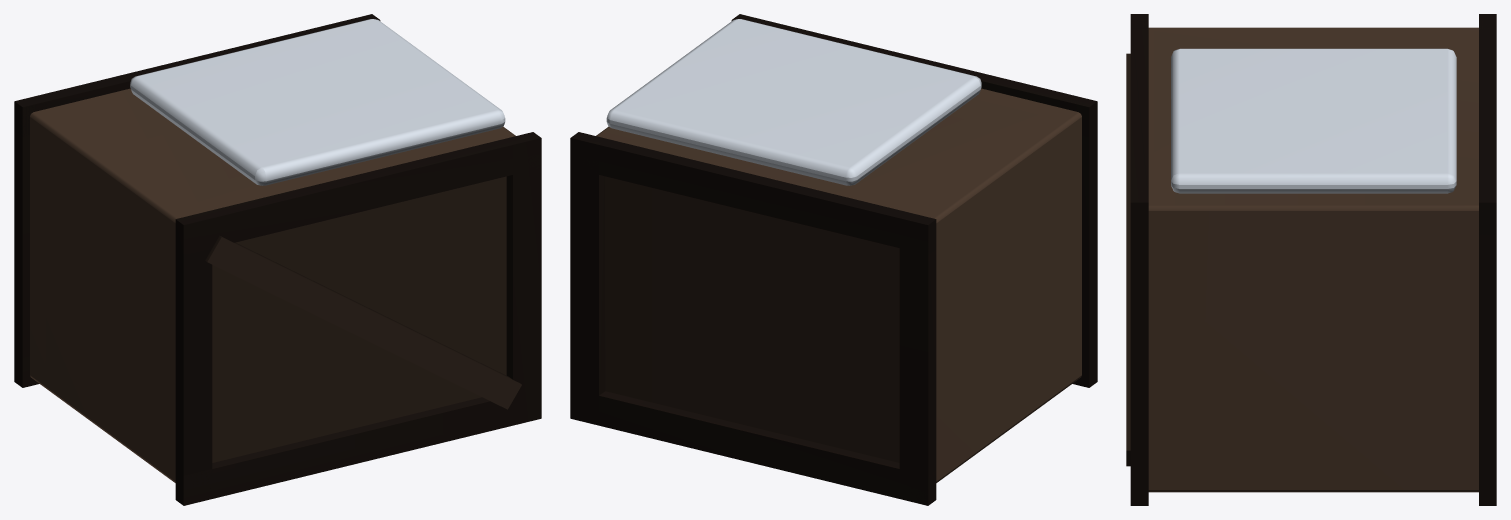
File: supply_crate_large.glb
3 renders of one model, left to right at view 1: azimuth 30°, elevation 25°; view 2: azimuth 150°, elevation 25°; view 3: azimuth 270°, elevation 25°, orthographic. The views are drawn at different scales.
Visible parts, largest first — view 1: CrateLarge; view 2: CrateLarge; view 3: CrateLarge.
Boxes of the visible parts, x1,y1,x2,y2 form: CrateLarge: (14, 14, 541, 505); CrateLarge: (570, 14, 1097, 505); CrateLarge: (1126, 14, 1496, 505).
Bounding box in the file's own units: 1 × 0.795 × 0.83.
